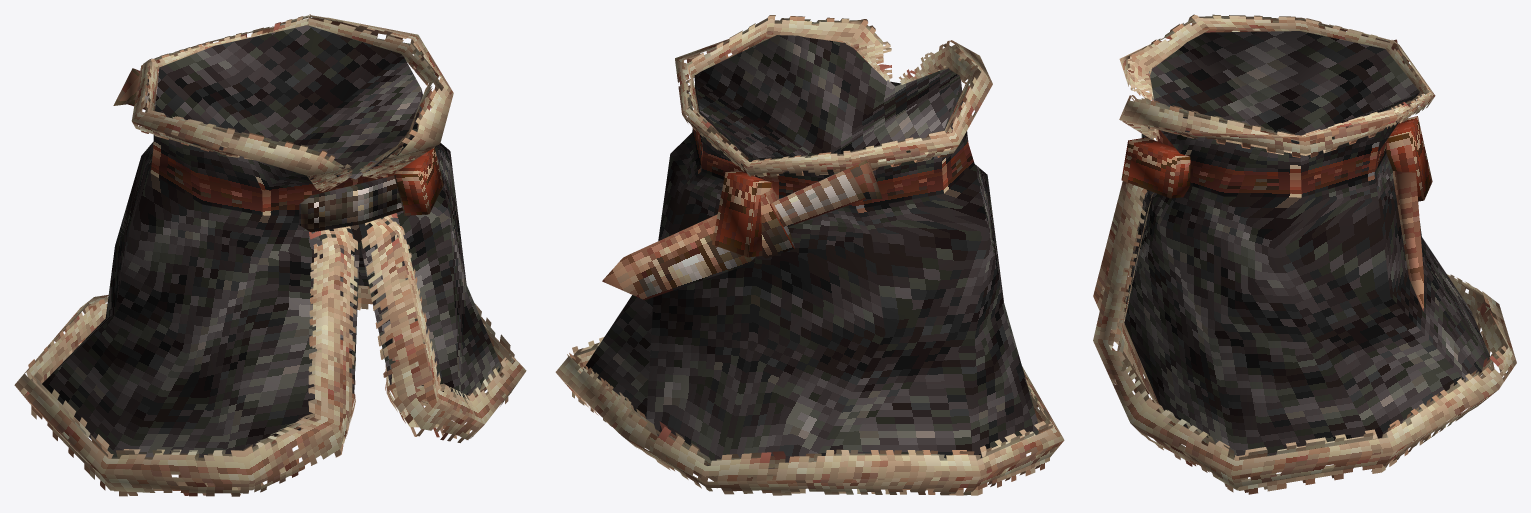
Rendered from m_wst046.glb.
3 views of the same model, side by side, from view 1: azimuth 30°, elevation 25°; view 2: azimuth 150°, elevation 25°; view 3: azimuth 270°, elevation 25° (orthographic). The views are drawn at different scales.
Bounding box in the file's own units: 65.05 × 53.08 × 59.19.
1 material, 1 textured.
